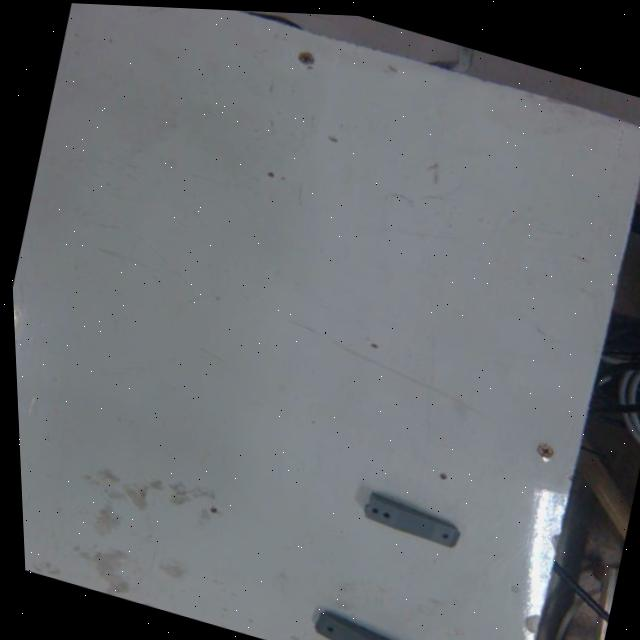grey: (350, 482, 460, 549), (295, 597, 411, 640)
head: (429, 523, 449, 540), (312, 617, 331, 634)
